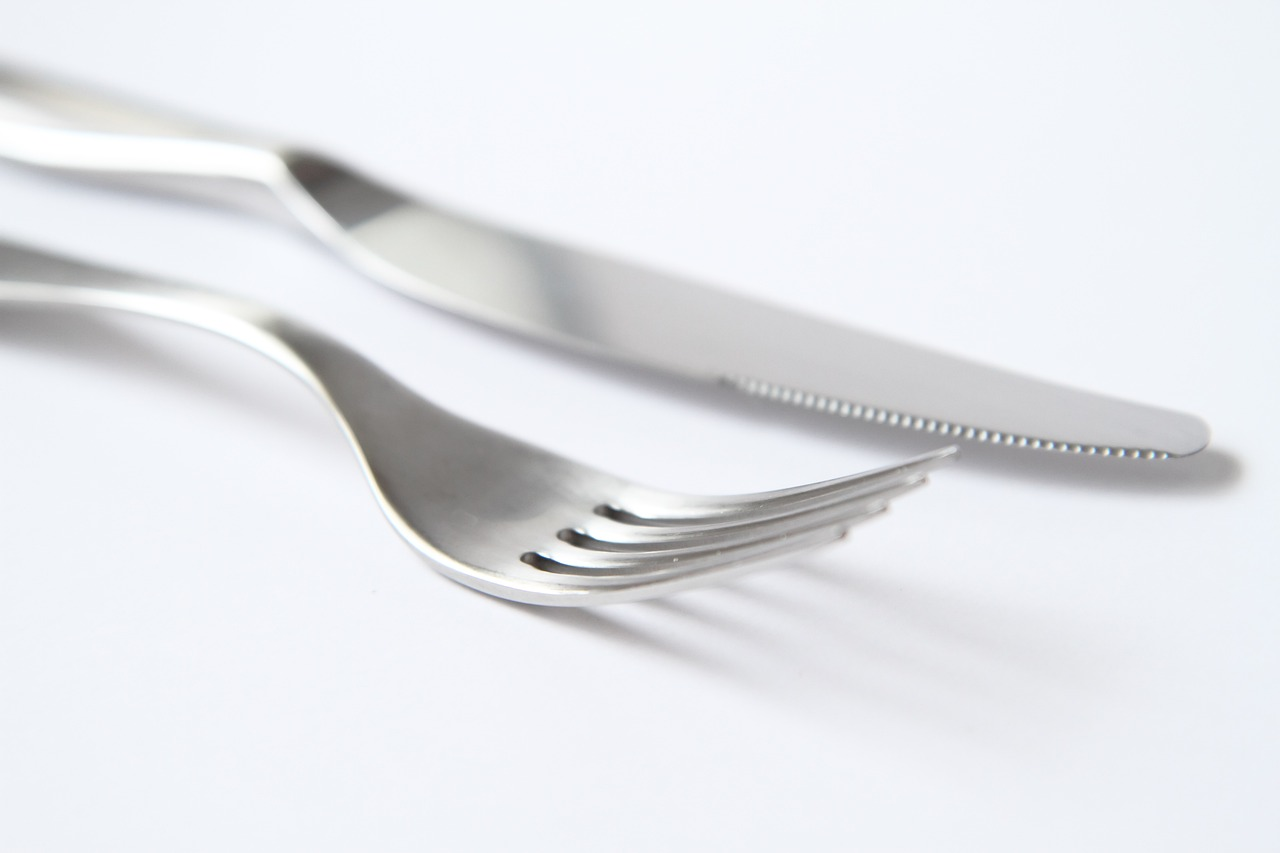knife: (0, 51, 1228, 488)
